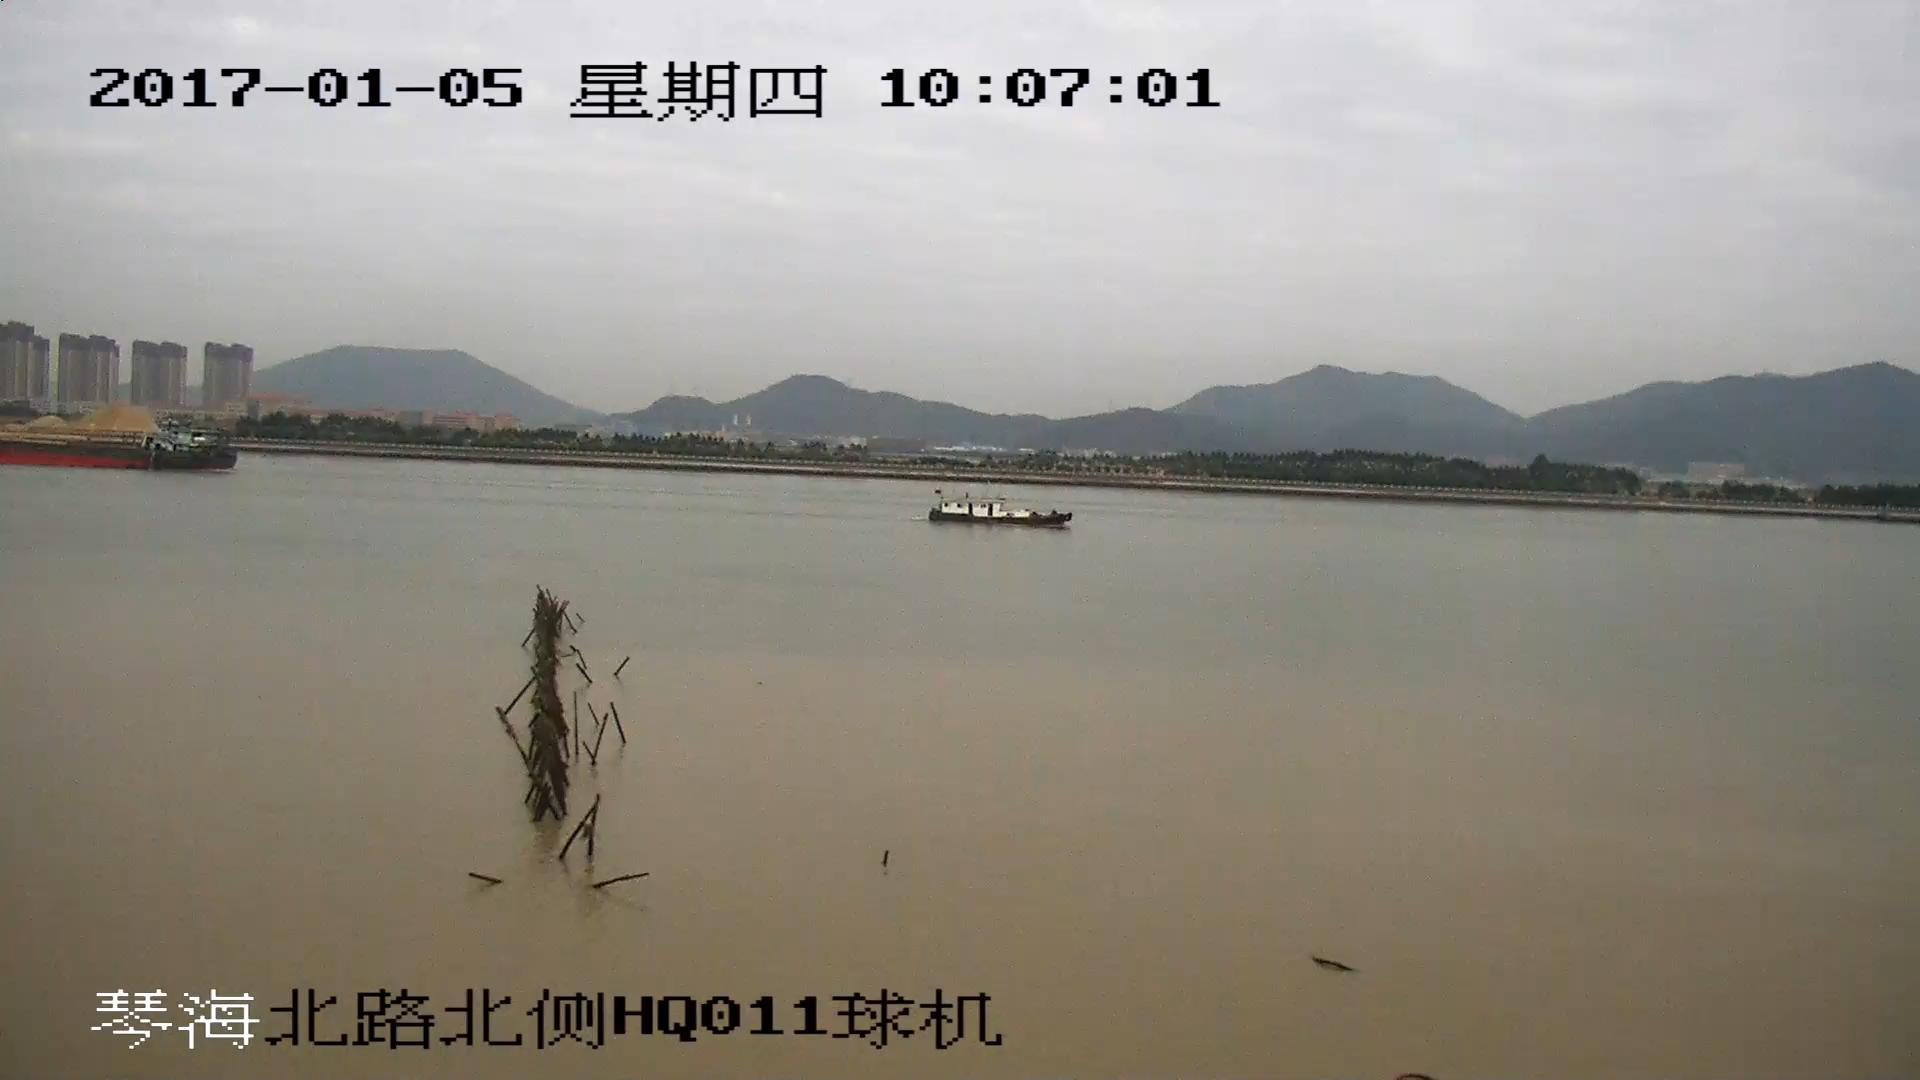Ship: (3, 427, 239, 477), (928, 493, 1076, 531)
